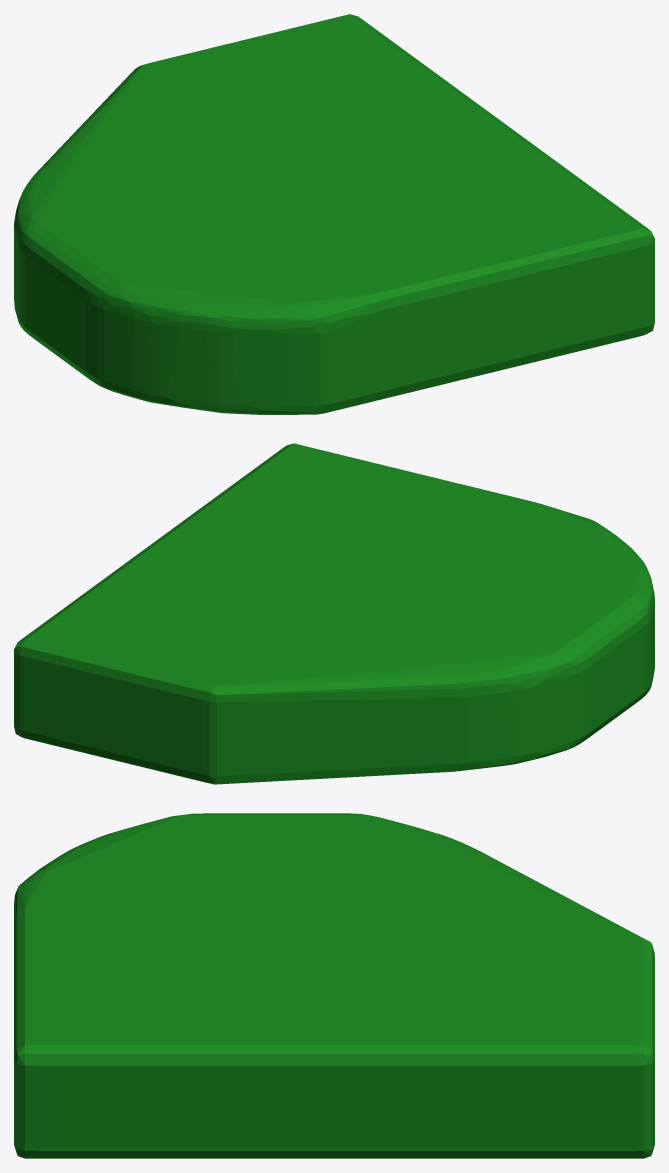
File: left_knee_link_part_8.obj
The picture shows the model from 3 angles, top to bottom: view 1: azimuth 30°, elevation 25°; view 2: azimuth 150°, elevation 25°; view 3: azimuth 270°, elevation 25°; orthographic projection. The views are drawn at different scales.
Size of the model in its own units: 0.1076 by 0.023 by 0.1176.
